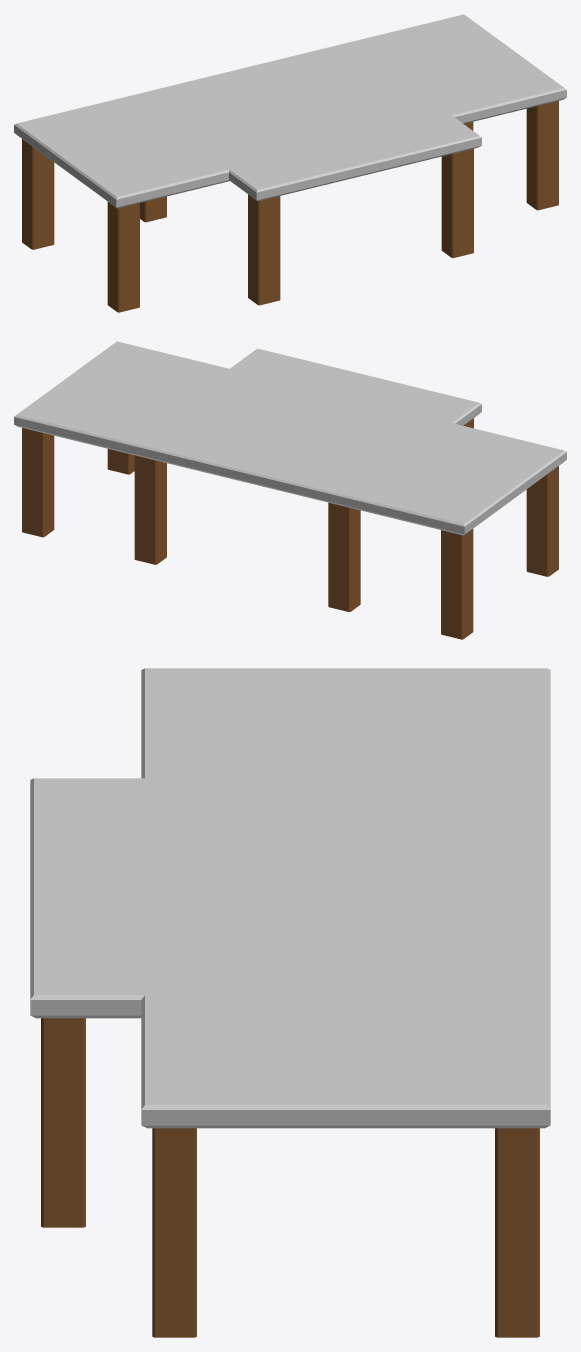
File: Tbles.fbx
3 views of the same model, one above another, from view 1: azimuth 30°, elevation 25°; view 2: azimuth 150°, elevation 25°; view 3: azimuth 270°, elevation 25° (orthographic). The views are drawn at different scales.
Visible parts, largest first — view 1: Long, Simple; view 2: Long, Simple; view 3: Long, Simple.
Boxes of the visible parts, box(x1,y1,x2,y2) form: Long: box(14, 14, 566, 312); Simple: box(131, 42, 481, 305); Long: box(14, 341, 566, 639); Simple: box(127, 348, 481, 611); Long: box(141, 668, 550, 1337); Simple: box(30, 778, 550, 1227).
Size of the model in its own units: 400 by 99.93 by 200.
